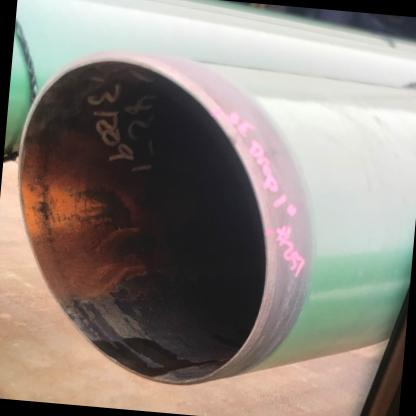Bevel: (219, 124, 244, 154)
